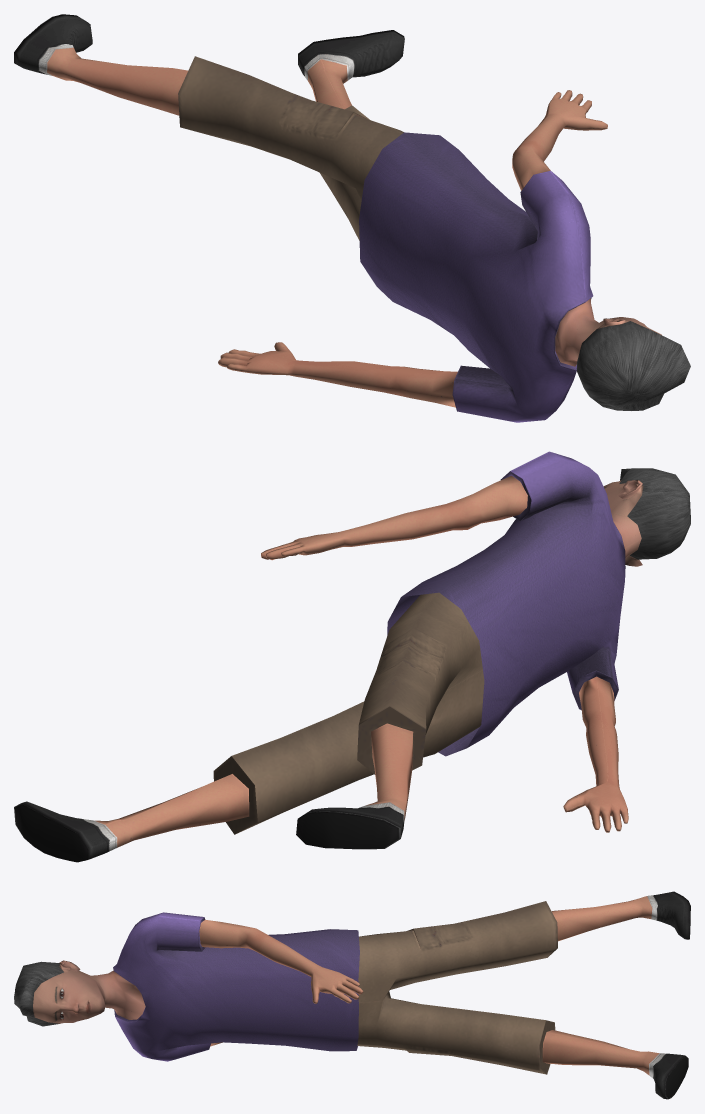
The model's file is walk.obj.
The picture shows the model from 3 angles, top to bottom: view 1: azimuth 30°, elevation 25°; view 2: azimuth 150°, elevation 25°; view 3: azimuth 270°, elevation 25°; orthographic projection. The views are drawn at different scales.
Bounding box in the file's own units: 0.8495 × 0.4614 × 1.74.
1 material, 1 textured.
